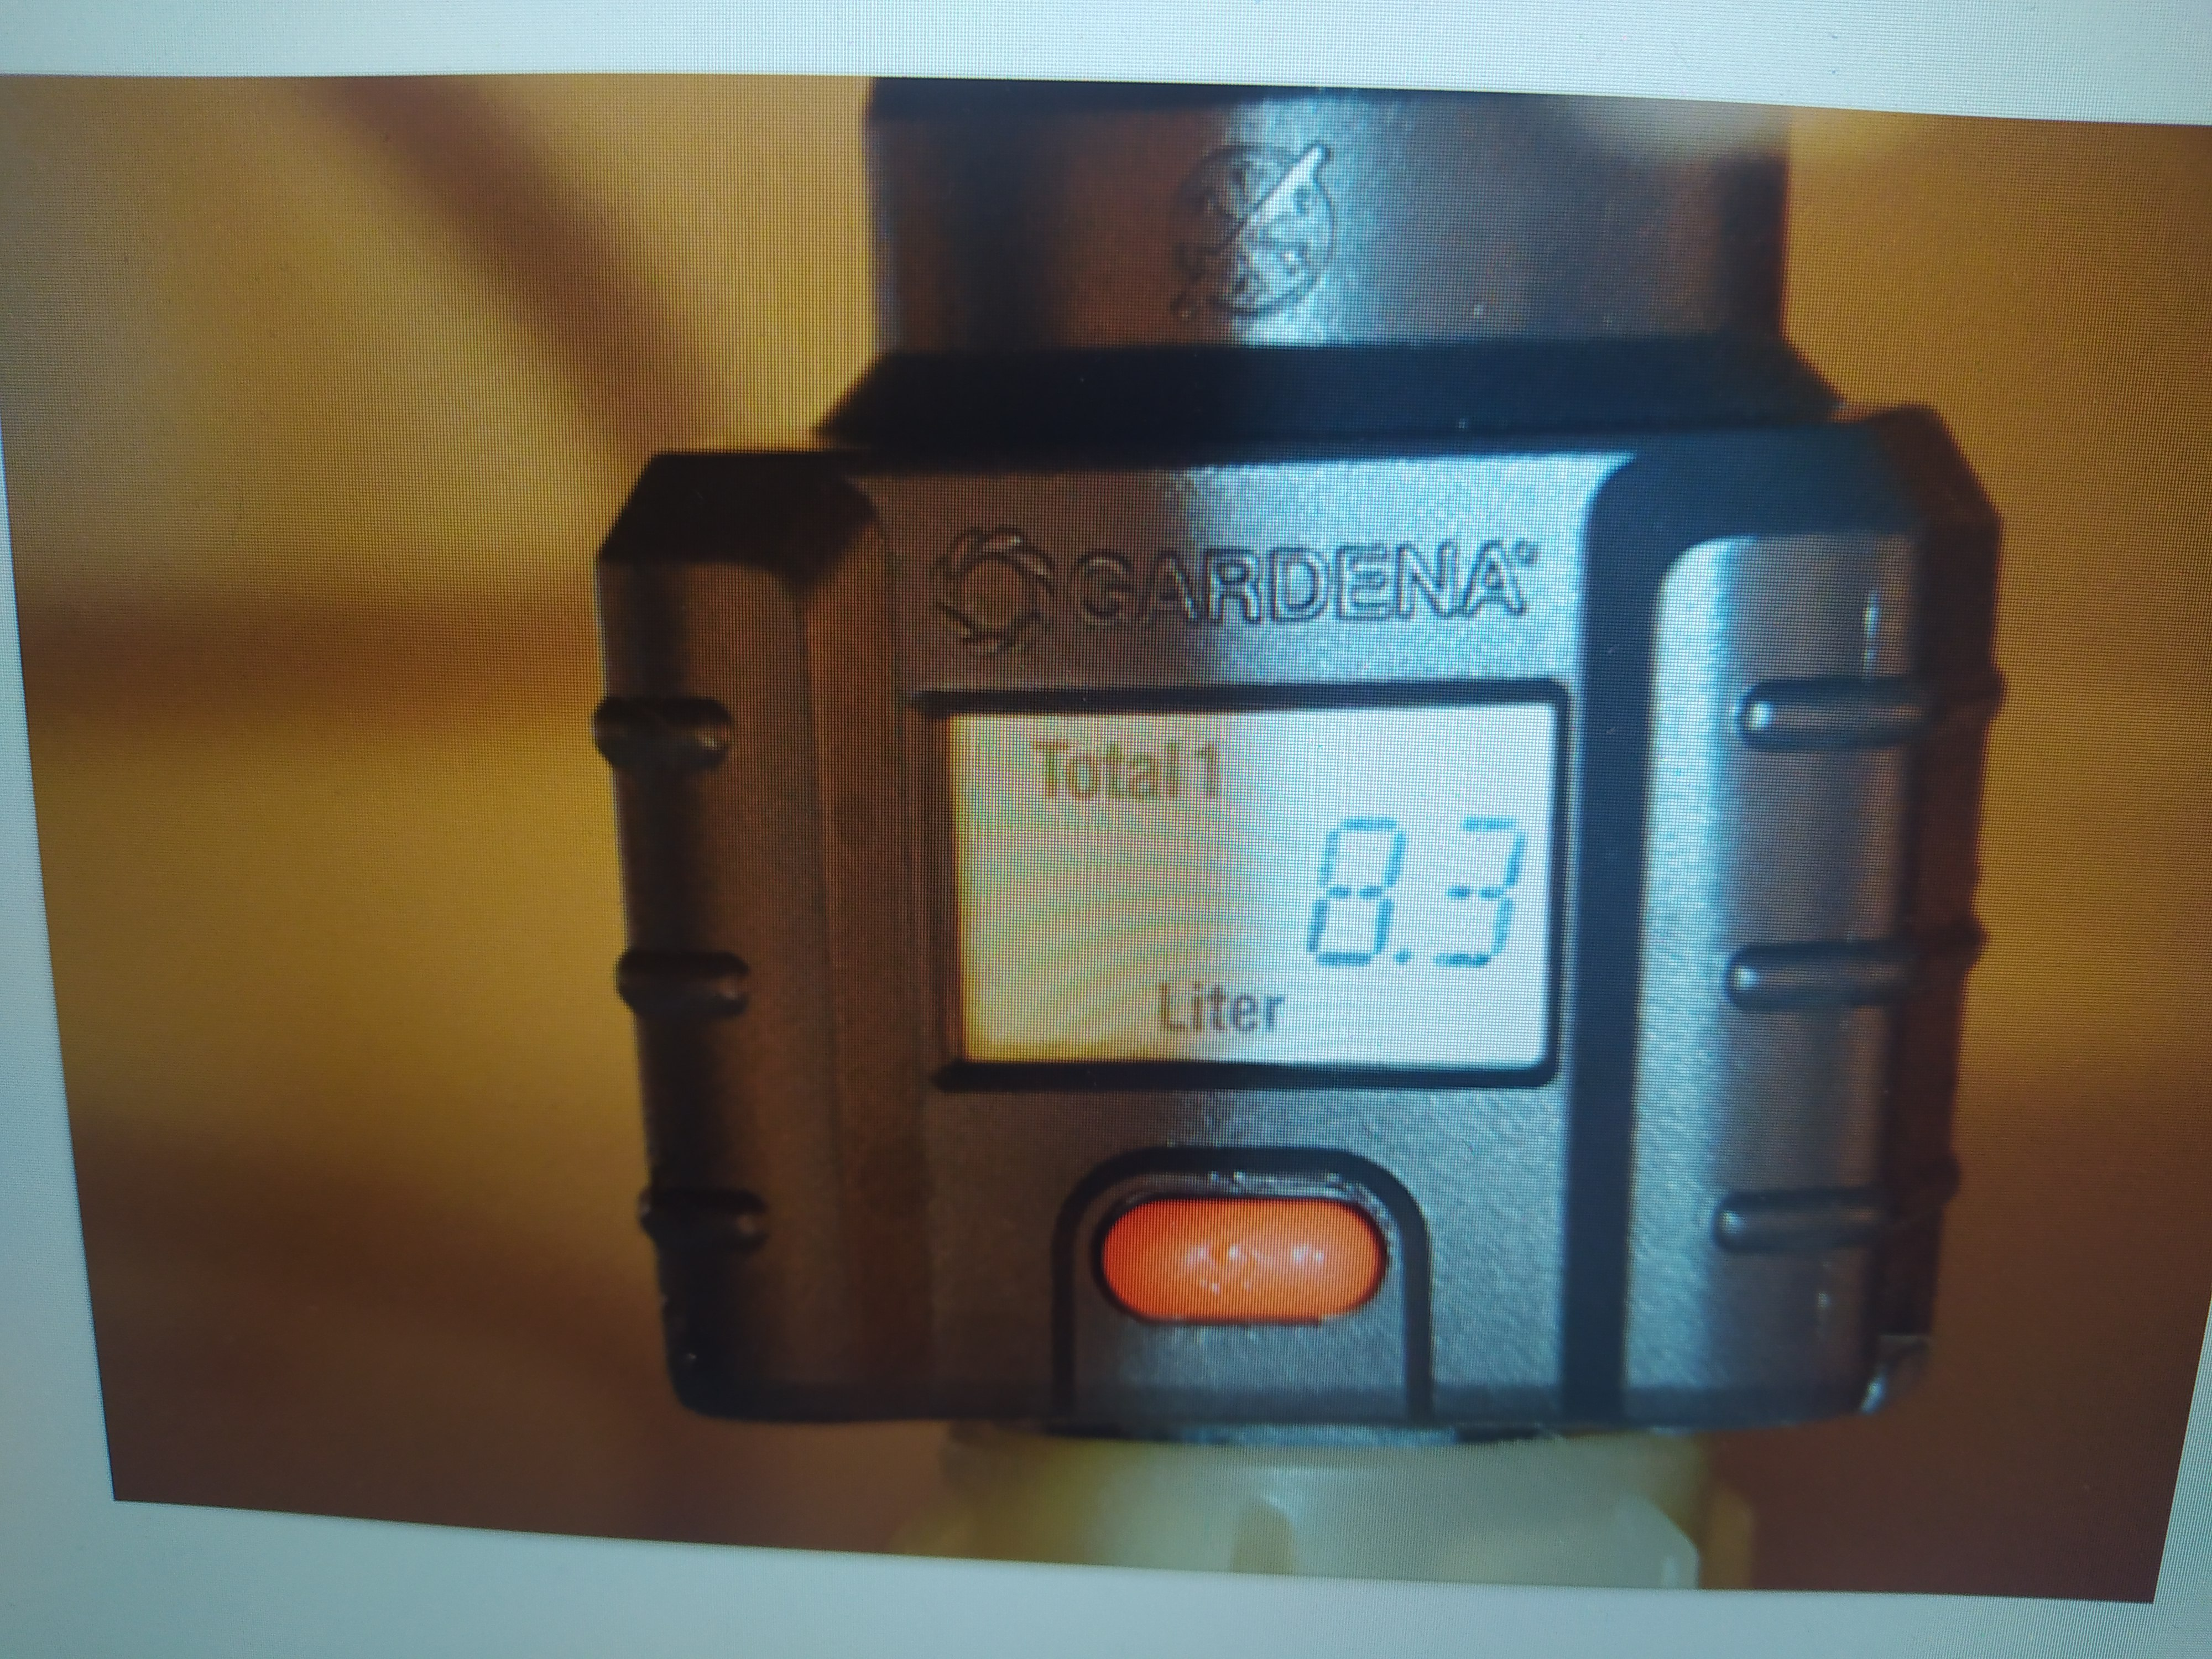.: (1395, 807, 1413, 990)
3: (1440, 810, 1521, 978)
8: (1301, 807, 1402, 972)
